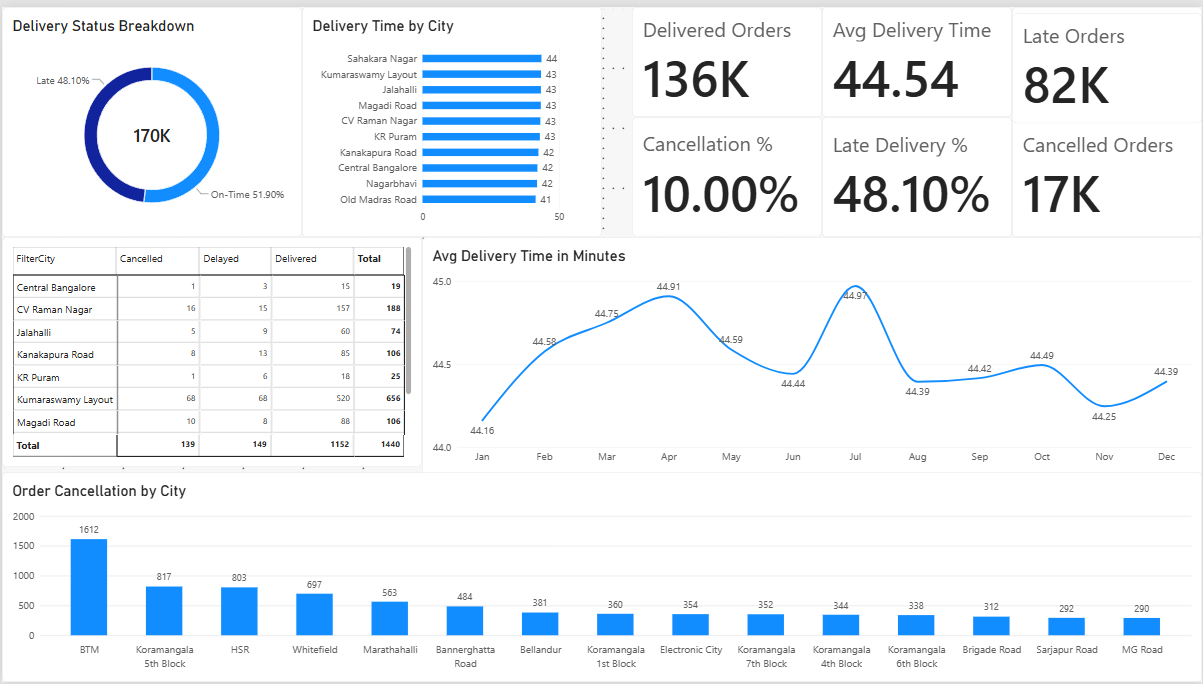

This screenshot's page, from the dashboard's own definition file:
{"tool":"powerbi","page":{"name":"Delivery & Operations","canvas":[1920,1080],"ordinal":3},"visuals":[{"type":"cardVisual","fields":{"Data":["Orders.Cancelled Orders"]},"box":[1616,176,304,192],"z":0},{"type":"cardVisual","fields":{"Data":["Orders.Late Delivery %"]},"box":[1312,176,304,192],"z":1000},{"type":"cardVisual","fields":{"Data":["Orders.Avg Delivery Time"]},"box":[1312,0,304,176],"z":2000},{"type":"cardVisual","fields":{"Data":["Orders.Late Orders"]},"box":[1616,0,304,176],"z":3000},{"type":"lineChart","title":"Avg Delivery Time in Minutes","fields":{"Category":["DateTable.MonthName"],"Y":["Orders.Avg Delivery Time"]},"box":[672,368,1248,384],"z":4000},{"type":"columnChart","title":"Order Cancellation by City","fields":{"Category":["Customers.FilterCity"],"Y":["Orders.Cancelled Orders"]},"box":[0,744,1920,336],"z":5000},{"type":"barChart","title":"Delivery Time by City","fields":{"Category":["Customers.FilterCity"],"Y":["Orders.Avg Delivery Time"]},"box":[480,0,480,368],"z":6000},{"type":"donutChart","title":"Delivery Status Breakdown","fields":{"Category":["Orders.DeliveryStatus"],"Y":["Orders.Total Orders"]},"box":[0,0,480,368],"z":7000},{"type":"cardVisual","fields":{"Data":["Orders.Delivered Orders"]},"box":[1008,0,304,176],"z":8000},{"type":"cardVisual","fields":{"Data":["Orders.Late Orders"]},"box":[1616,10,304,176],"z":9000},{"type":"cardVisual","fields":{"Data":["Orders.Cancellation %"]},"box":[1008,176,304,192],"z":10000},{"type":"pivotTable","title":"Delivery Time by City","fields":{"Columns":["Orders.OrderStatus"],"Rows":["Customers.FilterCity"],"Values":["Orders.Total Orders"]},"box":[0,368,672,368],"z":10001}]}

Visuals, with their boxes in screenshot pixels (x1, y1, x2, y2), scaled from the page's 1920x1080 canvas onto the 1203x684 screenshot:
cardVisual - Orders.Cancelled Orders: 1013:111:1202:233
cardVisual - Orders.Late Delivery %: 822:111:1013:233
cardVisual - Orders.Avg Delivery Time: 822:0:1013:111
cardVisual - Orders.Late Orders: 1013:0:1202:111
"Avg Delivery Time in Minutes" lineChart: 421:233:1202:476
"Order Cancellation by City" columnChart: 0:471:1202:683
"Delivery Time by City" barChart: 301:0:602:233
"Delivery Status Breakdown" donutChart: 0:0:301:233
cardVisual - Orders.Delivered Orders: 632:0:822:111
cardVisual - Orders.Late Orders: 1013:6:1202:118
cardVisual - Orders.Cancellation %: 632:111:822:233
"Delivery Time by City" pivotTable: 0:233:421:466
